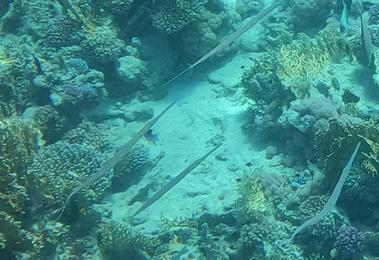Fistularia commersonii: (13, 70, 166, 227), (161, 0, 300, 106), (138, 128, 242, 220), (300, 125, 366, 259)
